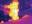Hotspot: (5, 0, 18, 20)
